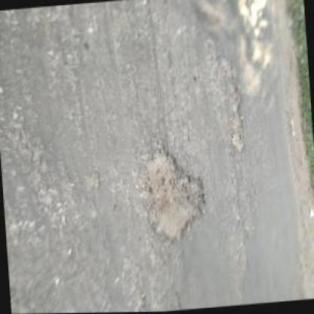Hueco: (137, 140, 209, 245), (227, 81, 247, 157)
